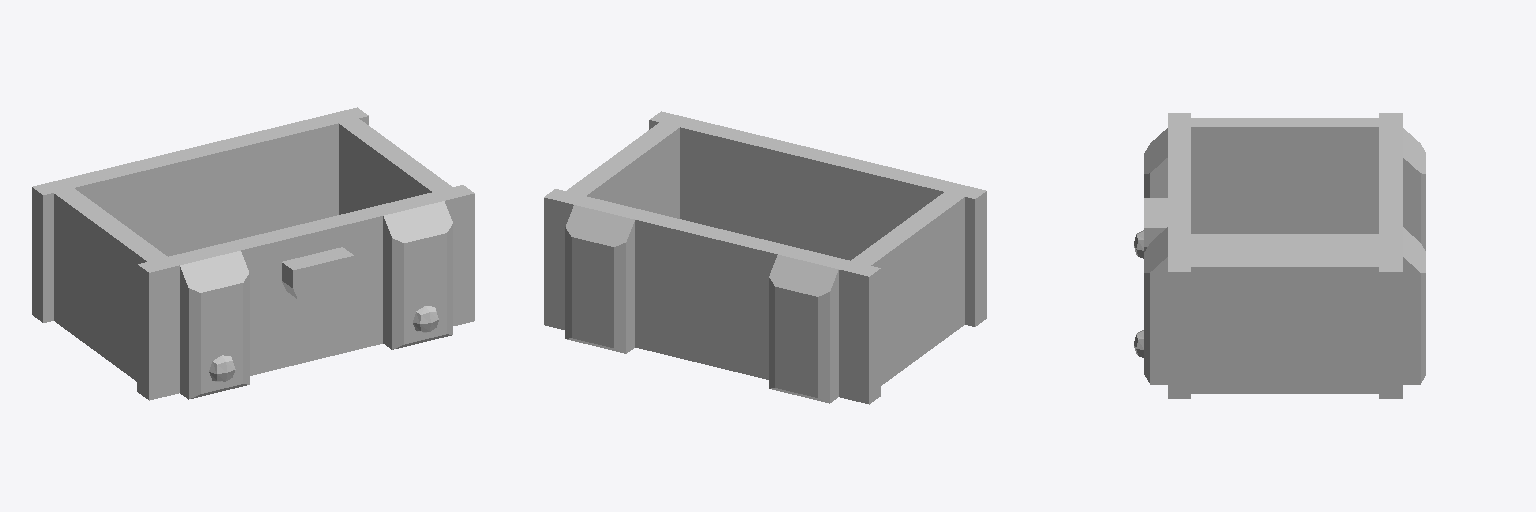
File: chest.obj
The picture shows the model from 3 angles: view 1: azimuth 30°, elevation 25°; view 2: azimuth 150°, elevation 25°; view 3: azimuth 270°, elevation 25°; orthographic projection.
Visible parts, largest first — view 1: chest; view 2: chest; view 3: chest.
Part boxes in pixels (x1,y1,x2,y2): chest: (32,107,474,400); chest: (544,111,986,404); chest: (1134,113,1425,398).
Bounding box in the file's own units: 1.6 × 0.6 × 1.25.